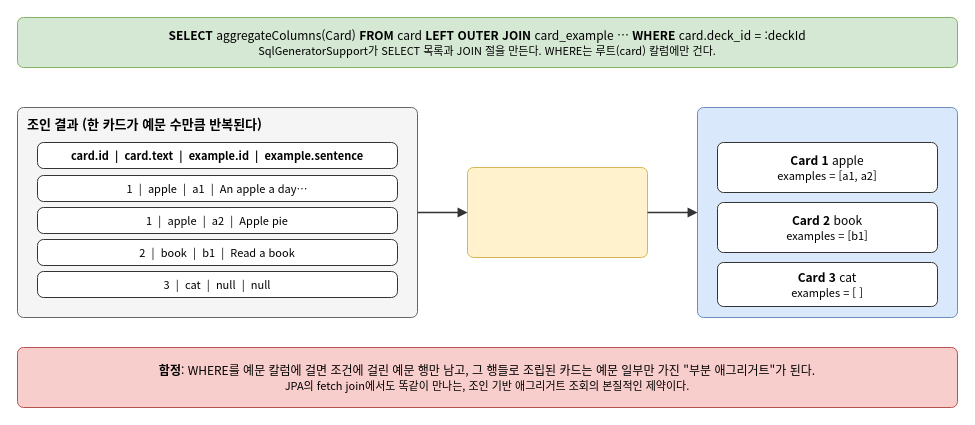
The diagram is 975 pixels wide and 425 high, and some of its shapes have lost their labels. The box of each missing label's shape, as (x1, y1, x2, y2) in pixels:
AggregateResultSetExtractor 같은 루트 id의 행을 카드 하나로 모은다: (466, 166, 648, 258)
List<Card>: (696, 106, 958, 318)
